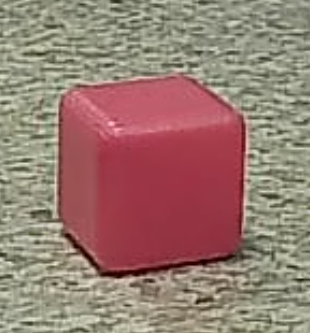red_cube: (51, 72, 259, 284)
